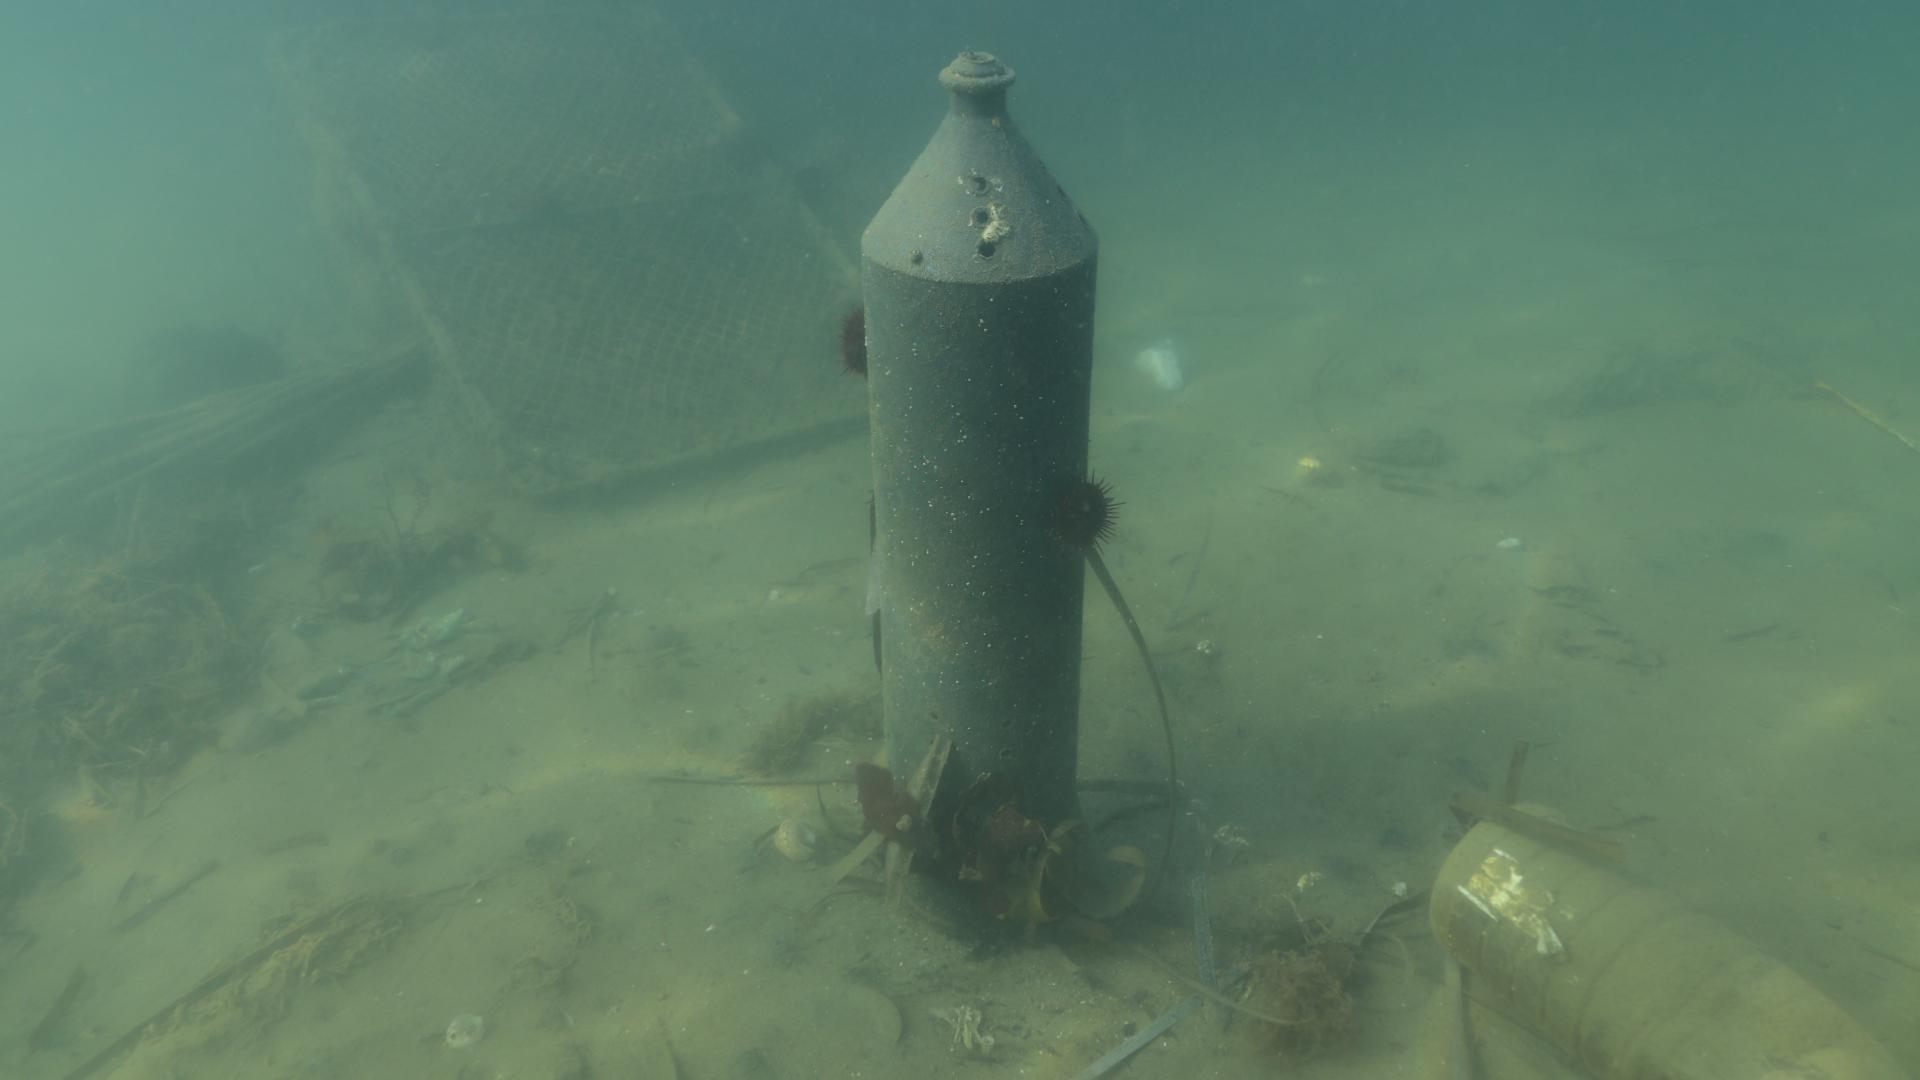eel fish trap: (855, 47, 1100, 864)
rectangular fish trap: (258, 15, 858, 484)
